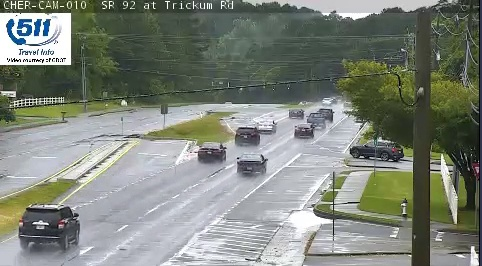car: (19, 205, 80, 244), (237, 154, 267, 173), (198, 142, 226, 160), (236, 127, 260, 145), (256, 119, 276, 134), (294, 123, 313, 138), (307, 112, 324, 126), (288, 107, 303, 118)
